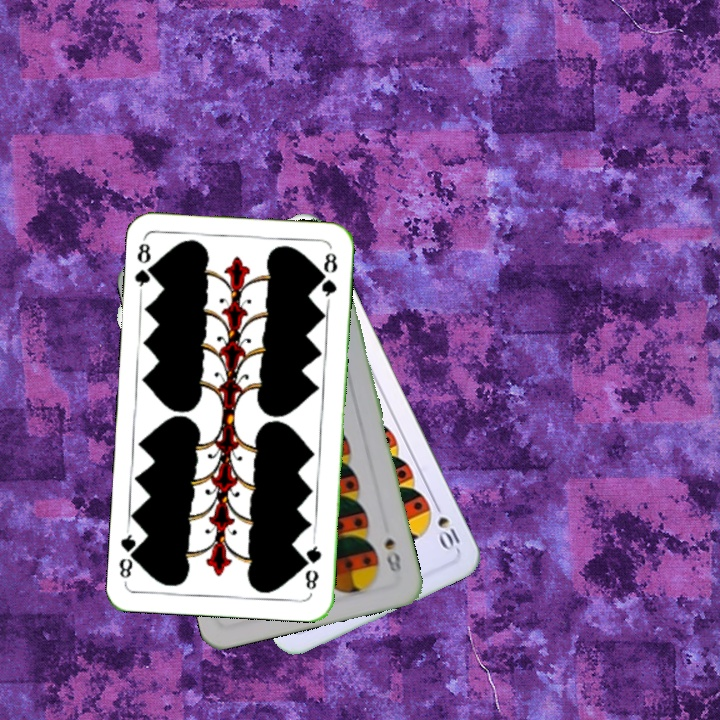G8: (131, 236, 159, 295), (301, 536, 325, 592)
S10: (429, 497, 463, 554)
S8: (380, 534, 404, 575)
